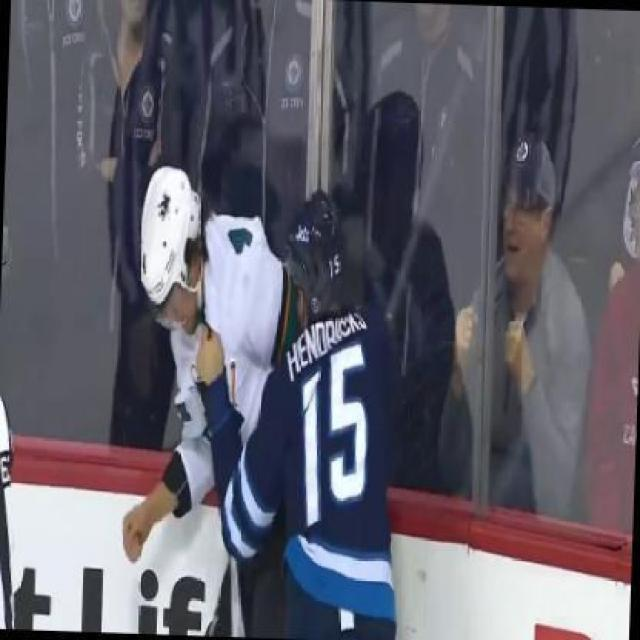fight: (117, 158, 414, 638)
